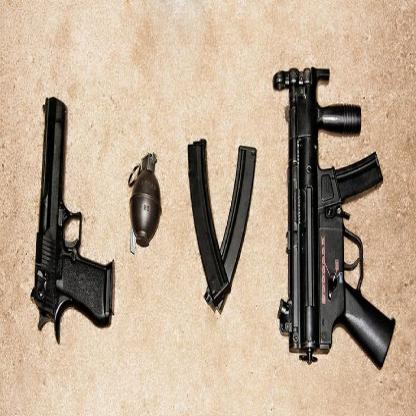Grenade: (126, 149, 162, 255)
Gun: (272, 65, 397, 372)
Pistol: (29, 91, 115, 347)
